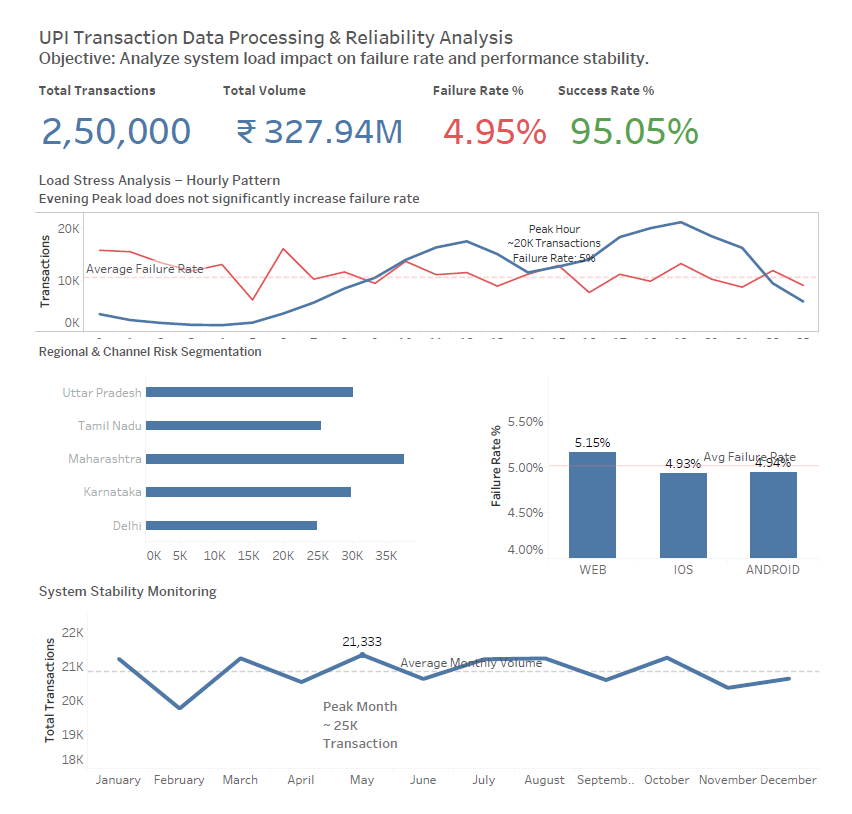

Layout of this report page (visuals, bound fields, positions):
{"tool":"tableau","page":{"name":"Dashboard 2","canvas":[1200,1200],"ordinal":0},"visuals":[{"type":"text","box":[8,8,1184,83]},{"type":"worksheet","title":"Sheet 1","mark":"Automatic","box":[8,91,277,138]},{"type":"worksheet","title":"Sheet 2","mark":"Automatic","box":[285,91,315,138]},{"type":"worksheet","title":"Sheet 3","mark":"Automatic","box":[600,91,188,138]},{"type":"worksheet","title":"Sheet 4","mark":"Automatic","box":[788,91,250,138]},{"type":"worksheet","title":"Sheet 5","mark":"Line","rows":["transaction_id","Calculation_1442598114975744"],"cols":["txn_hour"],"box":[8,229,1184,264]},{"type":"text","box":[8,493,1184,32]},{"type":"worksheet","title":"Sheet 7","mark":"Bar","rows":["sender_state"],"cols":["transaction_id"],"box":[8,525,670,327]},{"type":"worksheet","title":"Sheet 8","mark":"Bar","rows":["Calculation_1442598114975744"],"cols":["device_type"],"box":[678,525,514,327]},{"type":"text","box":[8,852,1184,32]},{"type":"worksheet","title":"Sheet 9","mark":"Line","rows":["transaction_id"],"cols":["txn_date"],"box":[8,884,1184,308]}]}

Visuals, with their boxes on the page's 1200x1200 design canvas (x1, y1, x2, y2). These are canvas units, not pixel positions in the 852x814 screenshot, which may show the page scaled, cropped or inside an application window:
text: bbox(8, 8, 1192, 91)
"Sheet 1" worksheet: bbox(8, 91, 285, 229)
"Sheet 2" worksheet: bbox(285, 91, 600, 229)
"Sheet 3" worksheet: bbox(600, 91, 788, 229)
"Sheet 4" worksheet: bbox(788, 91, 1038, 229)
"Sheet 5" worksheet (Line marks): bbox(8, 229, 1192, 493)
text: bbox(8, 493, 1192, 525)
"Sheet 7" worksheet (Bar marks): bbox(8, 525, 678, 852)
"Sheet 8" worksheet (Bar marks): bbox(678, 525, 1192, 852)
text: bbox(8, 852, 1192, 884)
"Sheet 9" worksheet (Line marks): bbox(8, 884, 1192, 1192)
